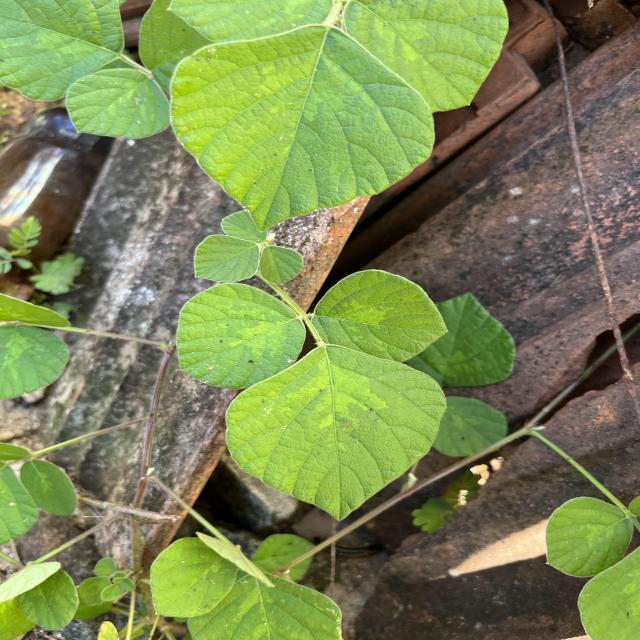Pseudarthria viscida: (173, 266, 452, 524), (193, 209, 304, 285), (448, 524, 451, 525)
